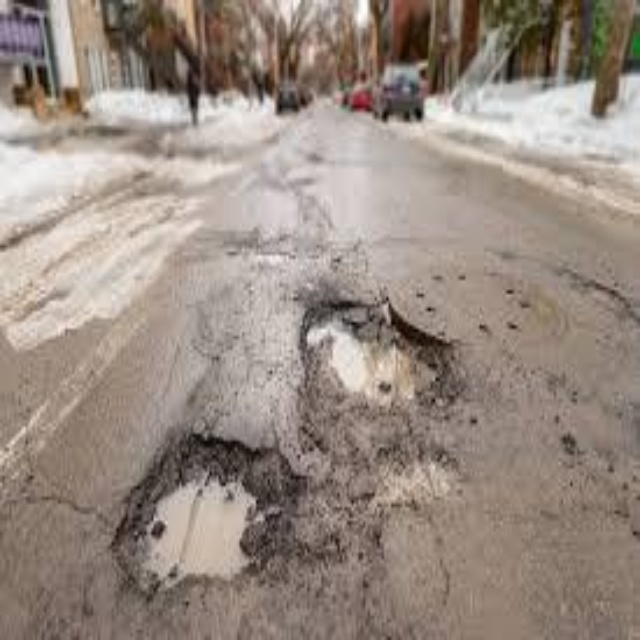pothole: (109, 434, 303, 595), (300, 304, 454, 409), (375, 441, 451, 511)
